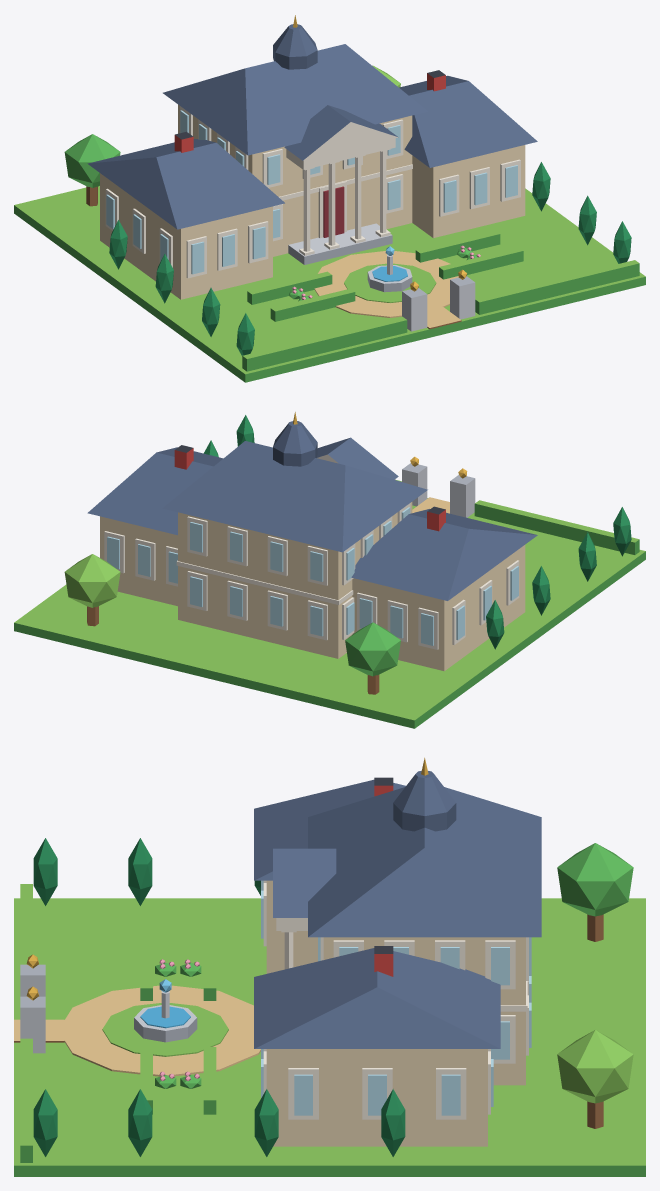
Rendered from house_mansion.glb.
3 renders of one model, top to bottom at view 1: azimuth 30°, elevation 25°; view 2: azimuth 150°, elevation 25°; view 3: azimuth 270°, elevation 25°, orthographic. The views are drawn at different scales.
Visible parts, largest first — view 1: house_mansion; view 2: house_mansion; view 3: house_mansion.
Part boxes in pixels (box(x1,y1,x2,y2)): house_mansion: box(14, 15, 645, 382); house_mansion: box(14, 412, 645, 728); house_mansion: box(14, 757, 645, 1176).
Size of the model in its own units: 2 by 1 by 2.
